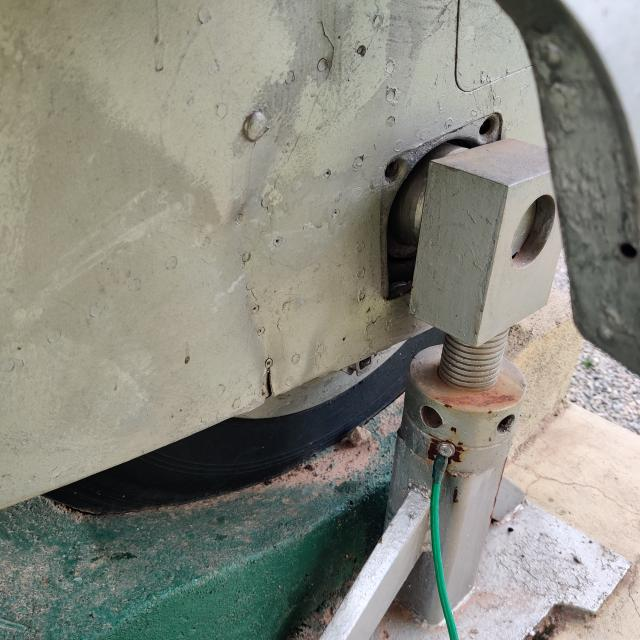crack: (252, 350, 285, 407)
